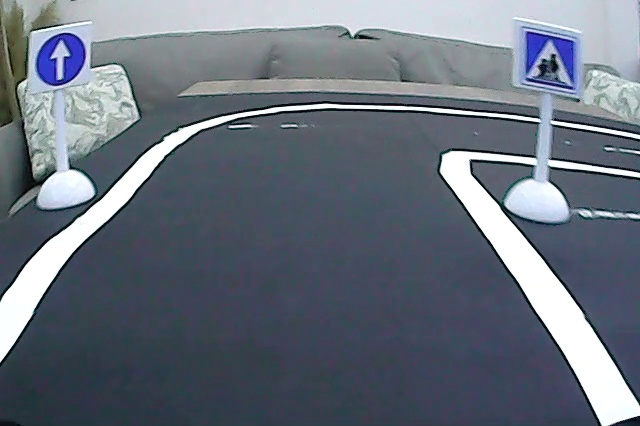school crossing: (520, 25, 581, 93)
